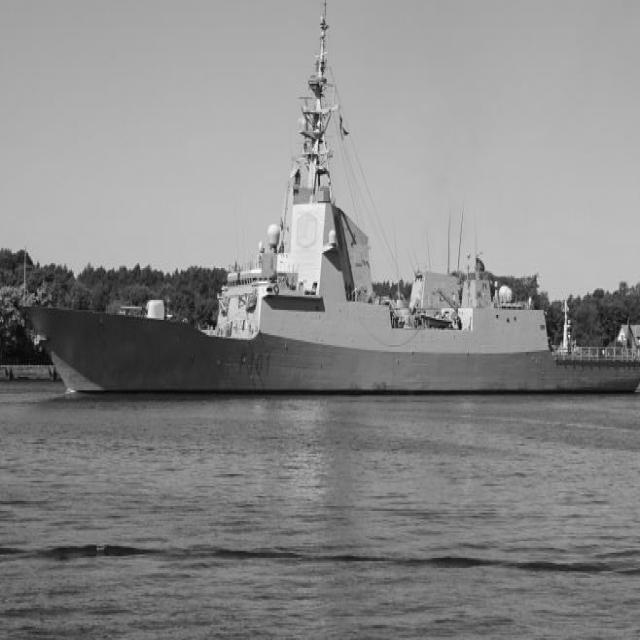Fragata: (10, 1, 640, 401)
